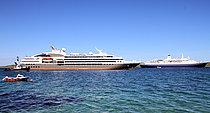Ship: (18, 45, 145, 76)
